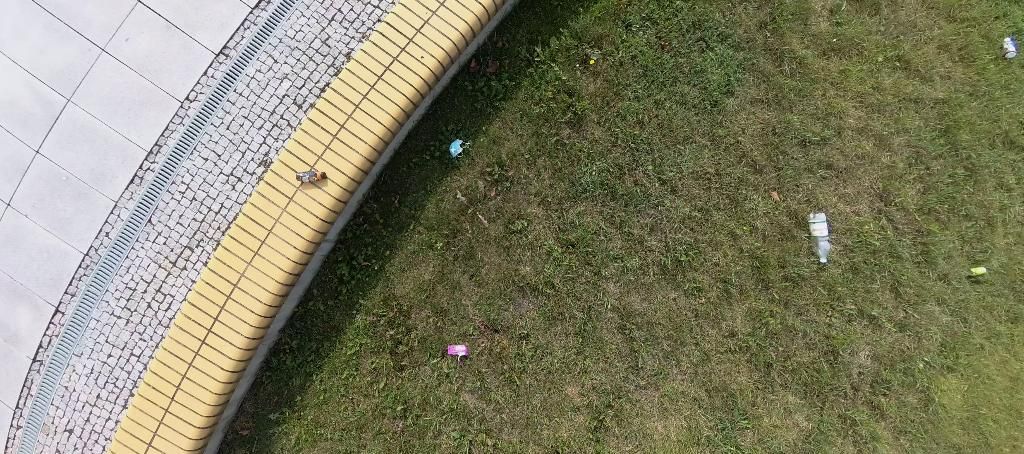garbage: (808, 211, 836, 269), (447, 135, 469, 162), (446, 341, 470, 360)
